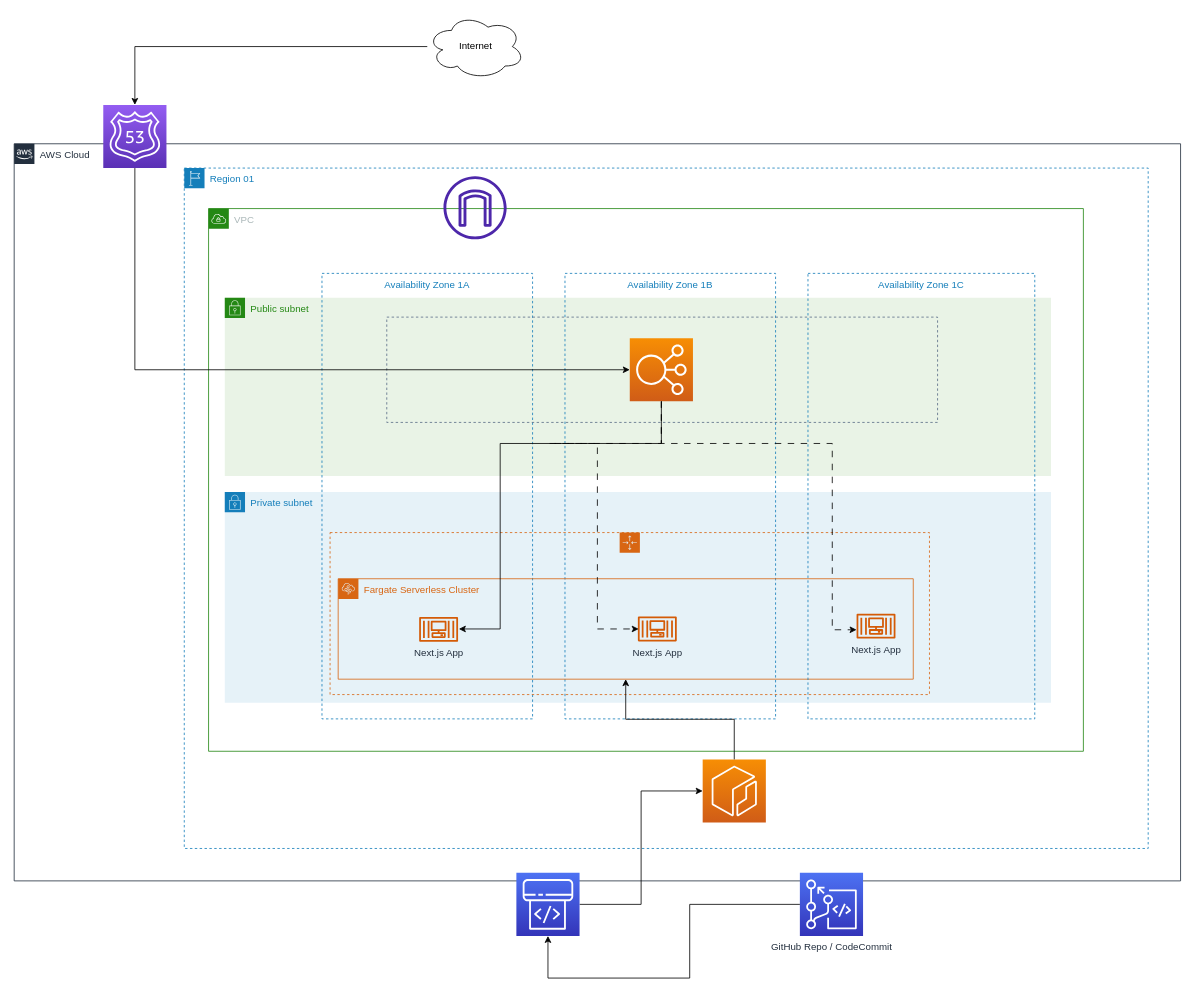
Image size: 1195x999. Some labels were removed from this diagram. The shapes that lost their labels are listed below. From the top down, each one's centre as x and y in pixels, then its label:
At (x=134, y=136): "Route 53 or other DNS".
At (x=474, y=207): "Internet Gateway Outbound Traffic".
At (x=661, y=369): "Load Balancer".
At (x=629, y=613): "Auto Scaling group".
At (x=734, y=791): "Elastic Conatiner Registry".
At (x=548, y=904): "GitHub Actions / CodePipeline".
